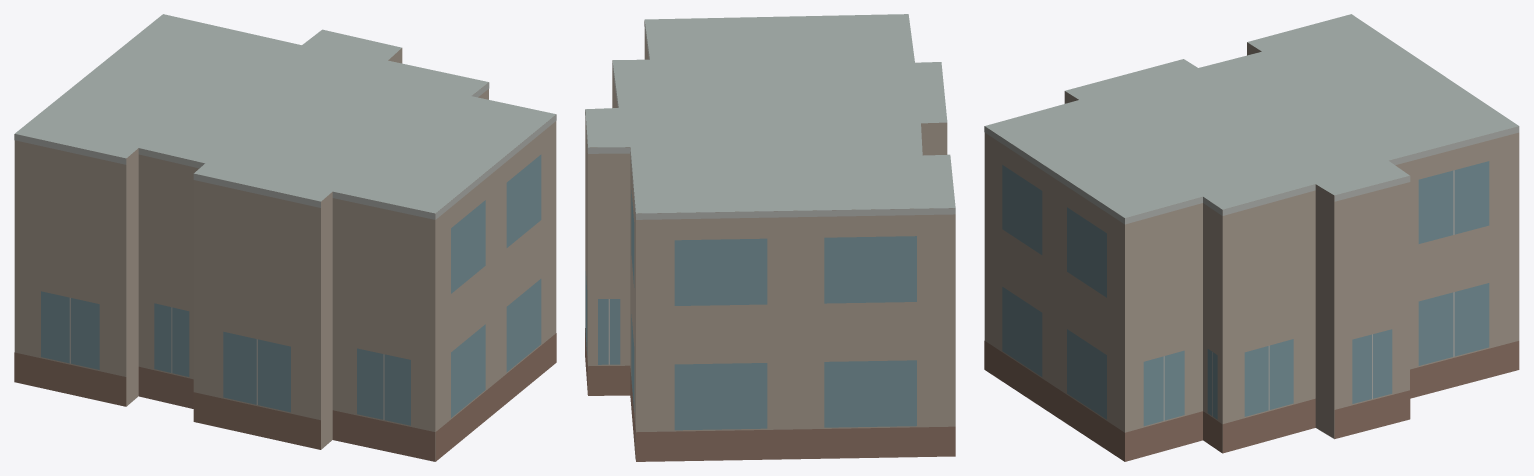
The model's file is survey-upis-32834320.glb.
The picture shows the model from 3 angles, left to right: view 1: azimuth 30°, elevation 25°; view 2: azimuth 150°, elevation 25°; view 3: azimuth 270°, elevation 25°; orthographic projection.
Visible parts, largest first — view 1: survey-upis-32834320.tmp; view 2: survey-upis-32834320.tmp; view 3: survey-upis-32834320.tmp.
Part boxes in pixels (box(x1,y1,x2,y2)): survey-upis-32834320.tmp: box(14, 14, 556, 461); survey-upis-32834320.tmp: box(585, 14, 955, 461); survey-upis-32834320.tmp: box(984, 14, 1519, 461).
Size of the model in its own units: 16.9 by 9.4 by 18.7.
